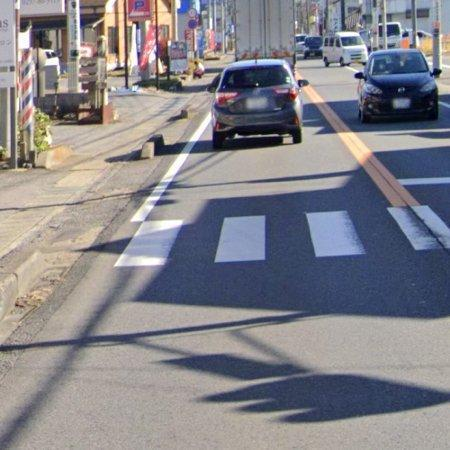crosswalks: (112, 204, 450, 267)
